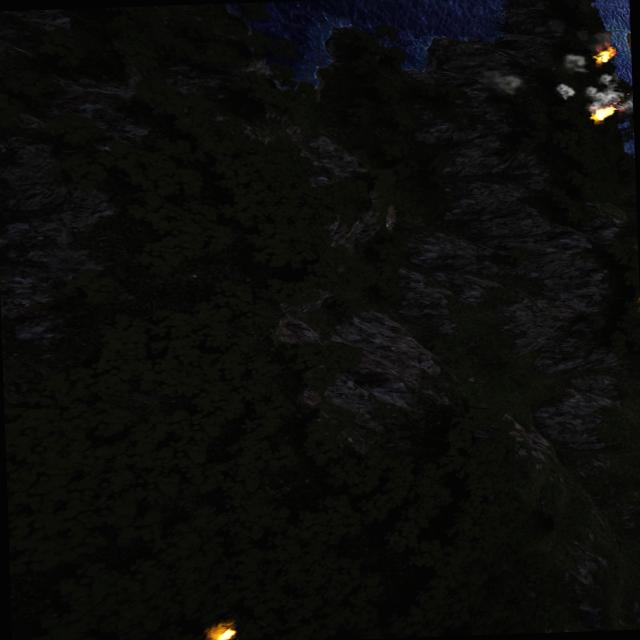fire: (588, 105, 614, 121), (594, 46, 617, 64), (209, 625, 235, 640)
smoke: (583, 73, 632, 111), (478, 69, 524, 97), (563, 52, 587, 71), (555, 84, 572, 98)
